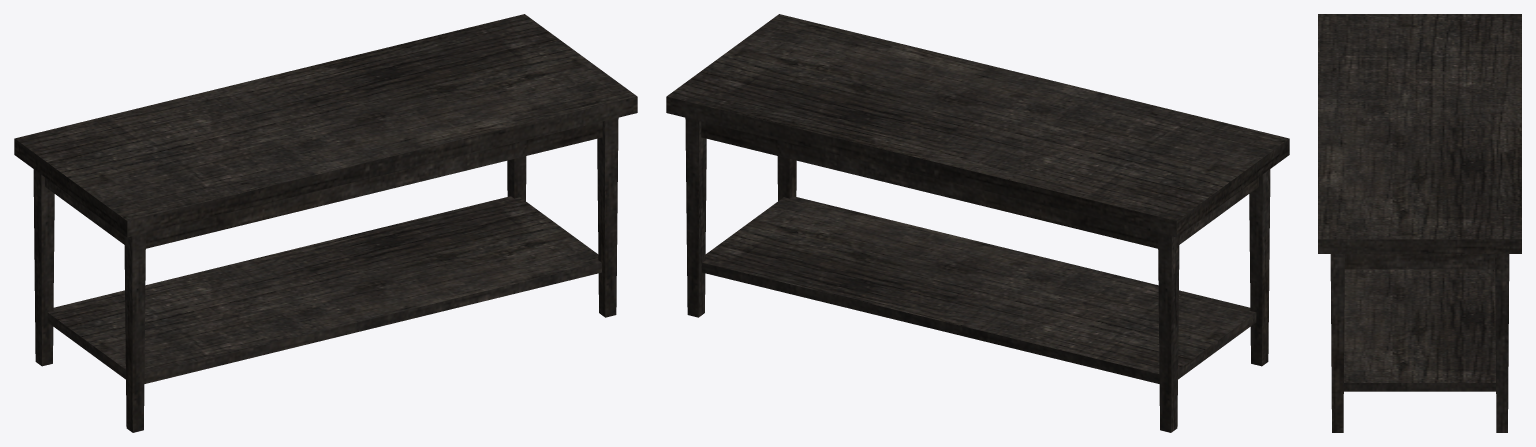
The model's file is coffee_table_1.obj.
The picture shows the model from 3 angles, left to right: view 1: azimuth 30°, elevation 25°; view 2: azimuth 150°, elevation 25°; view 3: azimuth 270°, elevation 25°; orthographic projection. The views are drawn at different scales.
Visible parts, largest first — view 1: coffee_table_1; view 2: coffee_table_1; view 3: coffee_table_1.
Boxes of the visible parts, x1,y1,x2,y2 form: coffee_table_1: [14, 14, 637, 432]; coffee_table_1: [666, 14, 1289, 432]; coffee_table_1: [1318, 14, 1521, 432].
Size of the model in its own units: 1.62 by 0.67 by 0.62.
